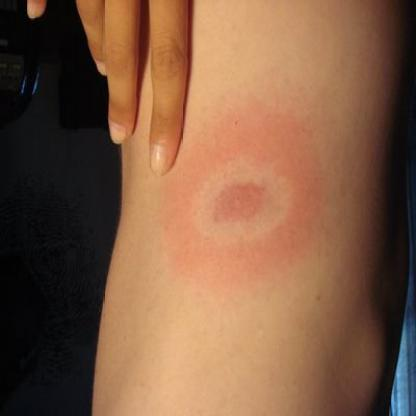Tick: (159, 96, 334, 296)
